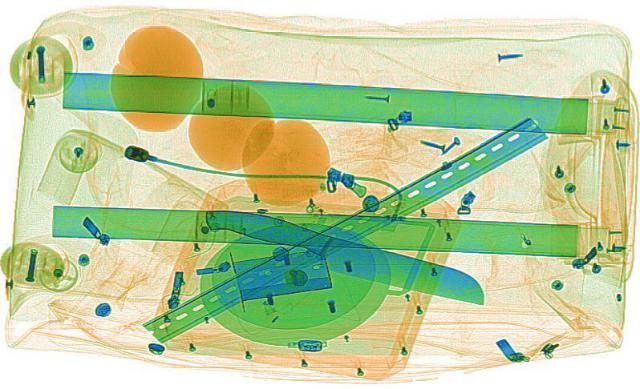Knife: (188, 200, 504, 309)
